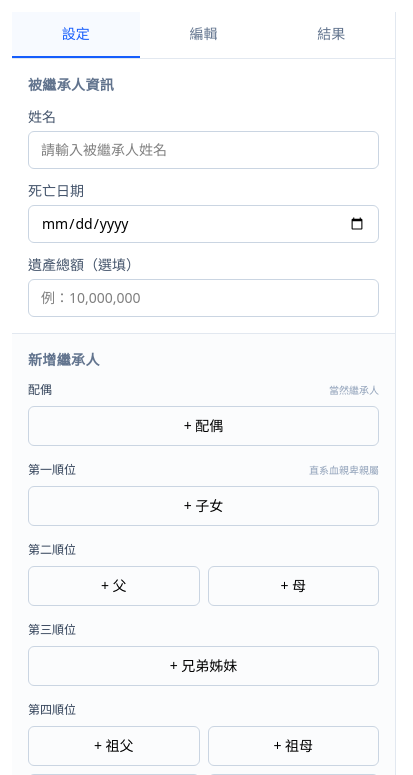
it: PersonEditor › shows editor when a person is added
Click the button "+ 子女". click: (204, 506)
box: [28,486,379,526]
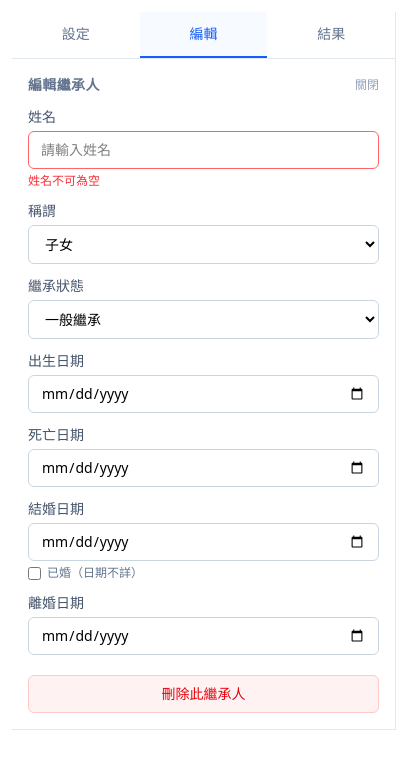
Now the heading "編輯繼承人" is shown, box [28,75,100,95]
Now the field labelled "姓名" is shown, box [28,131,379,169]
